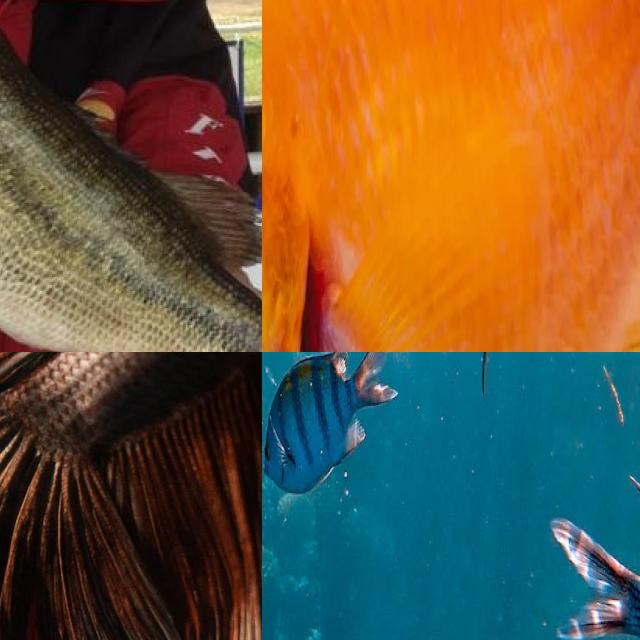fish: (262, 0, 640, 352), (0, 0, 262, 352), (0, 352, 262, 640)
